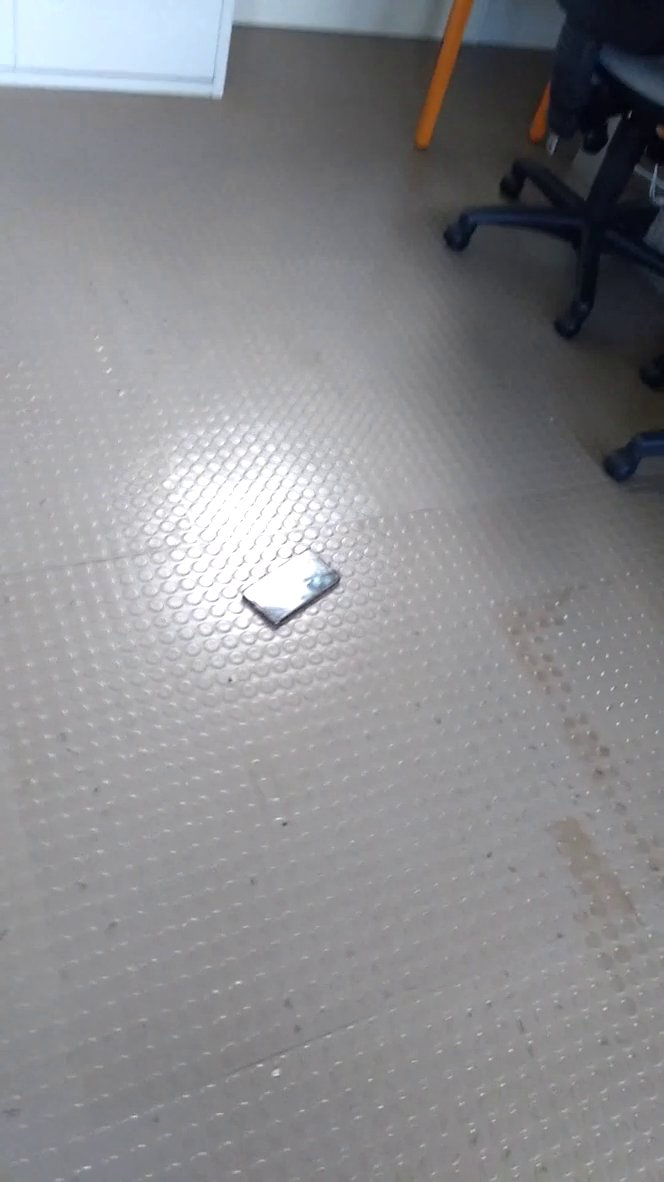phone: (237, 533, 349, 651)
